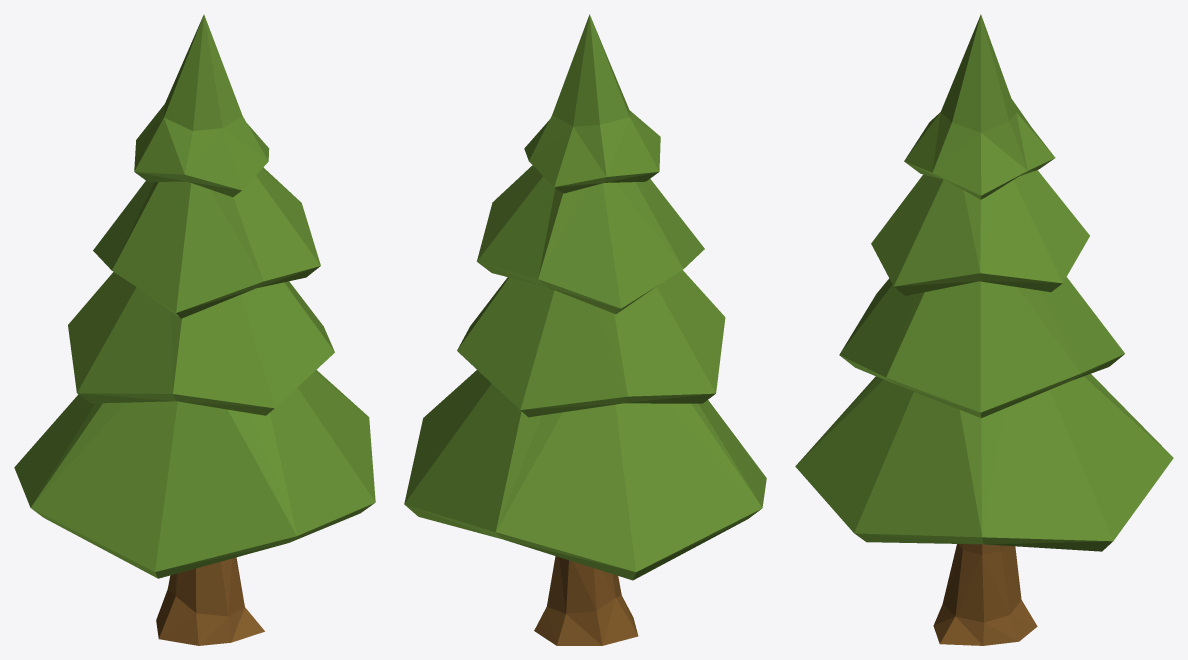
The model's file is arbre1.obj.
3 renders of one model, left to right at view 1: azimuth 30°, elevation 25°; view 2: azimuth 150°, elevation 25°; view 3: azimuth 270°, elevation 25°, orthographic.
Parts seen in each view (by area): view 1: Tree_Spruce_small_01; view 2: Tree_Spruce_small_01; view 3: Tree_Spruce_small_01.
Boxes of the visible parts, x1,y1,x2,y2 form: Tree_Spruce_small_01: (14,14,375,645); Tree_Spruce_small_01: (404,14,766,645); Tree_Spruce_small_01: (795,14,1173,645).
Size of the model in its own units: 10.58 by 18.26 by 10.26.
Materials: 1 (1 with a texture image).
